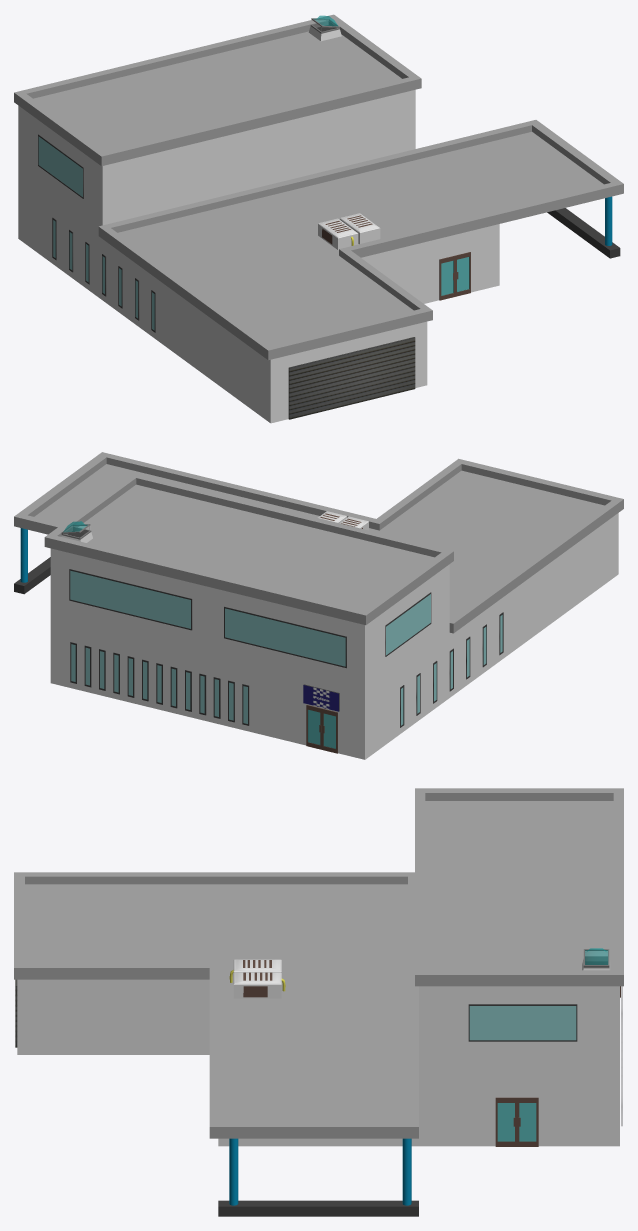
File: Building_PoliceStation_Mod_01.fbx
3 views of the same model, one above another, from view 1: azimuth 30°, elevation 25°; view 2: azimuth 150°, elevation 25°; view 3: azimuth 270°, elevation 25° (orthographic). The views are drawn at different scales.
Parts seen in each view (by area): view 1: pCube14, Window, Windows2, Door51, Door50; view 2: pCube14, Window2, Window1, Windows, Window, Windows2, pCube13, DoorRight15, DoorLeft13; view 3: pCube14, polySurface95, DoorRight14, DoorLeft12.
Boxes of the visible parts, left/top/right/bottom form: pCube14: left=14, top=14, right=623, bottom=423; Window: left=38, top=134, right=83, bottom=198; Windows2: left=52, top=217, right=155, bottom=332; Door51: left=439, top=255, right=455, bottom=300; Door50: left=455, top=252, right=470, bottom=296; pCube14: left=14, top=452, right=623, bottom=759; Window2: left=69, top=569, right=192, bottom=630; Window1: left=224, top=606, right=346, bottom=668; Windows: left=70, top=642, right=249, bottom=725; Window: left=385, top=592, right=431, bottom=656; Windows2: left=400, top=612, right=503, bottom=727; pCube13: left=303, top=684, right=339, bottom=711; DoorRight15: left=322, top=708, right=337, bottom=753; DoorLeft13: left=306, top=705, right=321, bottom=749; pCube14: left=14, top=788, right=623, bottom=1216; polySurface95: left=468, top=1004, right=577, bottom=1041; DoorRight14: left=517, top=1097, right=538, bottom=1146; DoorLeft12: left=495, top=1097, right=516, bottom=1146.
Bounding box in the file's own units: 23.96 × 8.19 × 24.23.
